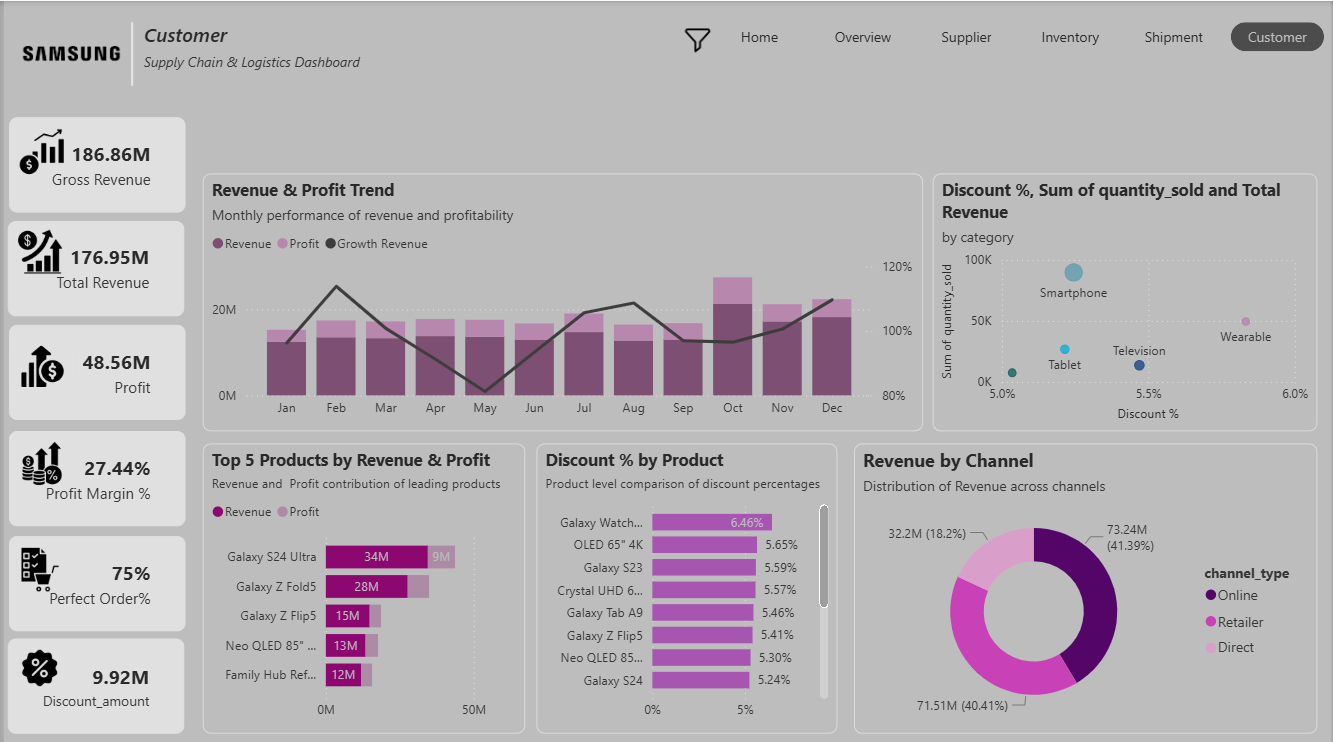

The dashboard page shown, as its layout file describes it:
{"tool":"powerbi","page":{"name":"Customer","canvas":[1280,720],"ordinal":5},"visuals":[{"type":"shape","title":"Customer","box":[135,18.8,210,62.5],"z":0},{"type":"shape","box":[53.8,20,138.8,61.2],"z":1000},{"type":"image","box":[11.2,8.8,103.8,83.8],"z":2000},{"type":"barChart","title":"Top 5 Products by Revenue & Profit","fields":{"Category":["dim_product.product_name"],"Y":["measures_tbl.Total Revenue","Sum(fact_sales.profit)"]},"box":[191.8,427.1,311.3,279.9],"z":3000},{"type":"cardVisual","fields":{"Data":["Measures_Table.Total_Revenue"]},"box":[3.6,212.3,170.1,91.7],"z":4000},{"type":"cardVisual","fields":{"Data":["Measures_Table.Profit"]},"box":[4.8,312.5,170,92],"z":5000},{"type":"cardVisual","fields":{"Data":["Measures_Table.Profit Margin %"]},"box":[4.8,415,170,92],"z":6000},{"type":"cardVisual","fields":{"Data":["Measures_Table.Perfect Order %"]},"box":[4.8,516.4,170,92],"z":7000},{"type":"cardVisual","fields":{"Data":["Sum(fact_sales.gross_revenue)"]},"box":[4.8,112.2,170,92],"z":8000},{"type":"cardVisual","fields":{"Data":["Sum(fact_sales.discount_amount)"]},"box":[3.6,615.3,170,92],"z":9000},{"type":"donutChart","title":"Revenue by Channel ","fields":{"Y":["measures_tbl.Total Revenue"],"Category":["dim_customer.channel_type"]},"box":[820.9,427.1,447.3,279.9],"z":10000},{"type":"lineStackedColumnComboChart","title":"Revenue & Profit Trend","fields":{"Category":["dim_date.Month_short"],"Y":["measures_tbl.Total Revenue","Sum(fact_sales.profit)"],"Y2":["measures_tbl.Growth_revenue"]},"box":[191.8,166.5,694.9,248.5],"z":11000},{"type":"scatterChart","fields":{"X":["measures_tbl.Discount %"],"Y":["Sum(fact_sales.quantity_sold)"],"Size":["measures_tbl.Total Revenue"],"Series":["dim_product.category"]},"box":[896.4,166.5,371.6,248.5],"z":12000},{"type":"clusteredBarChart","title":"Discount % by Product","fields":{"Category":["dim_product.product_name"],"Y":["measures_tbl.Discount %"]},"box":[513.9,427.1,290.8,279.9],"z":13000},{"type":"pageNavigator","box":[684.1,20.5,596,29],"z":14000},{"type":"image","box":[655.1,20.5,29,33.8],"z":15000},{"type":"image","box":[0,121.9,72.4,47.1],"z":16000},{"type":"image","box":[0,220.8,70,42.2],"z":17000},{"type":"image","box":[4.8,331.8,65.1,42.2],"z":18000},{"type":"image","box":[6,423.5,61.5,45.8],"z":19000},{"type":"image","box":[10.9,524.8,48.3,48.3],"z":20000},{"type":"image","box":[12.1,626.1,44.6,35],"z":21000}]}

Visuals, with their boxes in screenshot pixels (x1, y1, x2, y2), scaled from the page's 1280x720 canvas onto the 1333x742 screenshot:
"Customer" shape: [left=141, top=19, right=359, bottom=84]
shape: [left=56, top=21, right=201, bottom=84]
image: [left=12, top=9, right=120, bottom=95]
"Top 5 Products by Revenue & Profit" barChart: [left=200, top=440, right=524, bottom=729]
cardVisual - Measures_Table.Total_Revenue: [left=4, top=219, right=181, bottom=313]
cardVisual - Measures_Table.Profit: [left=5, top=322, right=182, bottom=417]
cardVisual - Measures_Table.Profit Margin %: [left=5, top=428, right=182, bottom=522]
cardVisual - Measures_Table.Perfect Order %: [left=5, top=532, right=182, bottom=627]
cardVisual - Sum(fact_sales.gross_revenue): [left=5, top=116, right=182, bottom=210]
cardVisual - Sum(fact_sales.discount_amount): [left=4, top=634, right=181, bottom=729]
"Revenue by Channel " donutChart: [left=855, top=440, right=1321, bottom=729]
"Revenue & Profit Trend" lineStackedColumnComboChart: [left=200, top=172, right=923, bottom=428]
scatterChart - measures_tbl.Discount % x Sum(fact_sales.quantity_sold): [left=934, top=172, right=1321, bottom=428]
"Discount % by Product" clusteredBarChart: [left=535, top=440, right=838, bottom=729]
pageNavigator: [left=712, top=21, right=1332, bottom=51]
image: [left=682, top=21, right=712, bottom=56]
image: [left=0, top=126, right=75, bottom=174]
image: [left=0, top=228, right=73, bottom=271]
image: [left=5, top=342, right=73, bottom=385]
image: [left=6, top=436, right=70, bottom=484]
image: [left=11, top=541, right=62, bottom=591]
image: [left=13, top=645, right=59, bottom=681]
